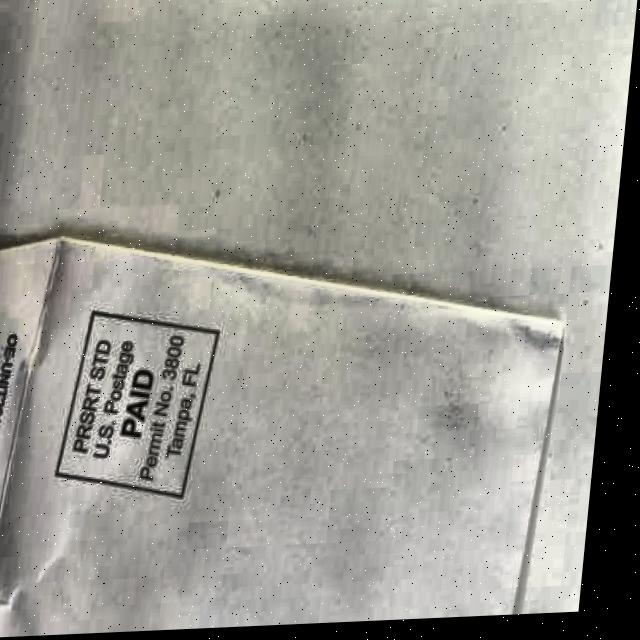paper: (0, 213, 580, 640)
